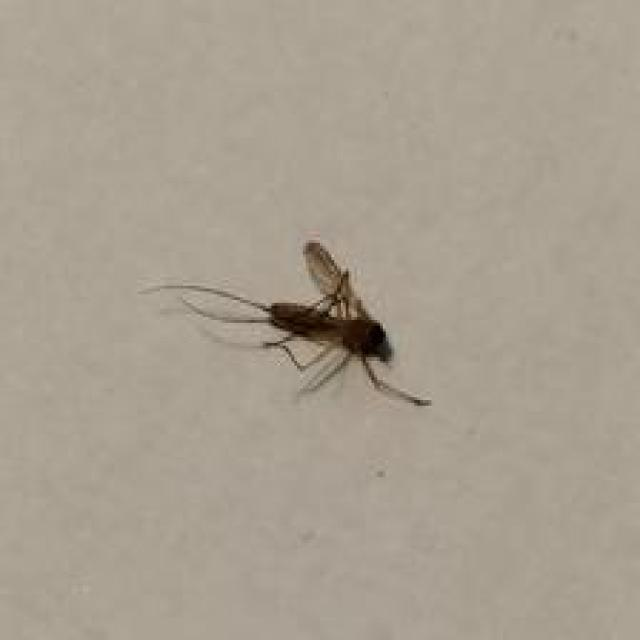Culex: (138, 239, 433, 410)
